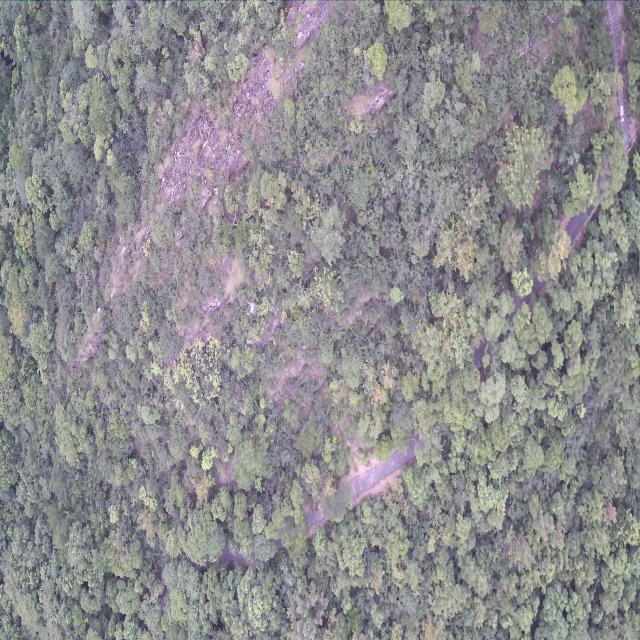UAV: (245, 300, 261, 320)
